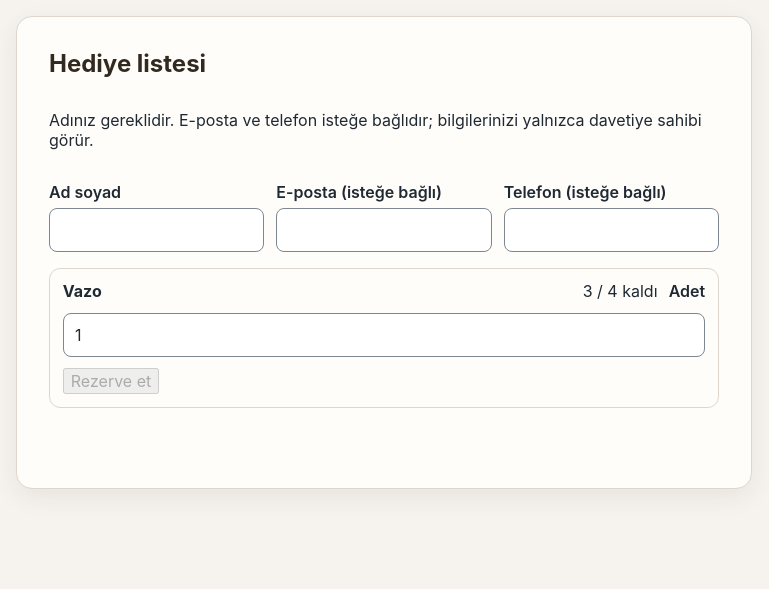
Test case: PublicGiftRegistrySection › checks template support, reserves a partial quantity and never renders guest contact data
Type "Misafir Örnek" into the field labelled "Ad soyad" at (157, 230), box [49, 208, 264, 252]
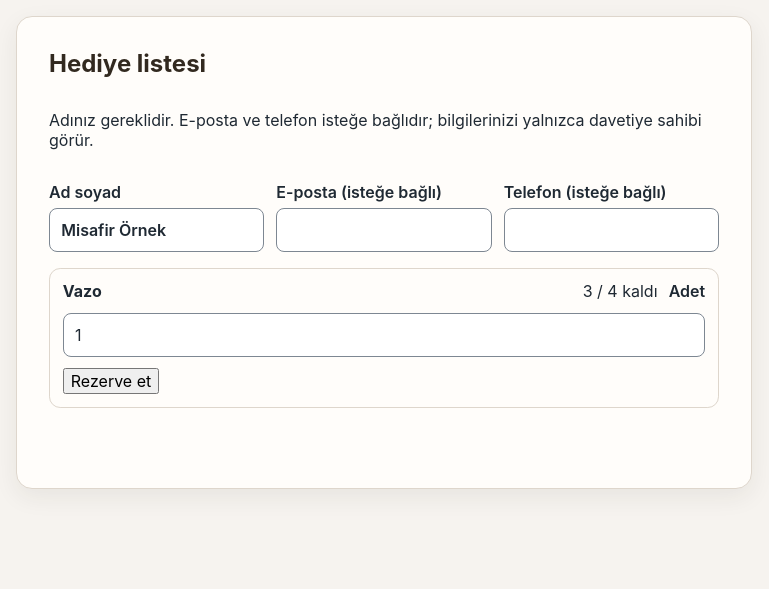
Replace the text in the number field labelled "Adet" with "2" at (384, 335), box [63, 313, 705, 357]
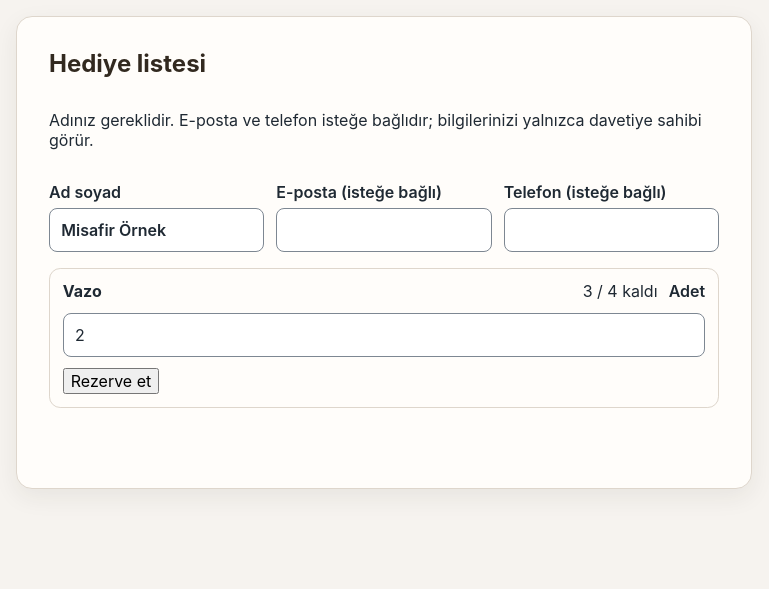
Click the button "Rezerve et" at (111, 381), box [63, 368, 159, 394]
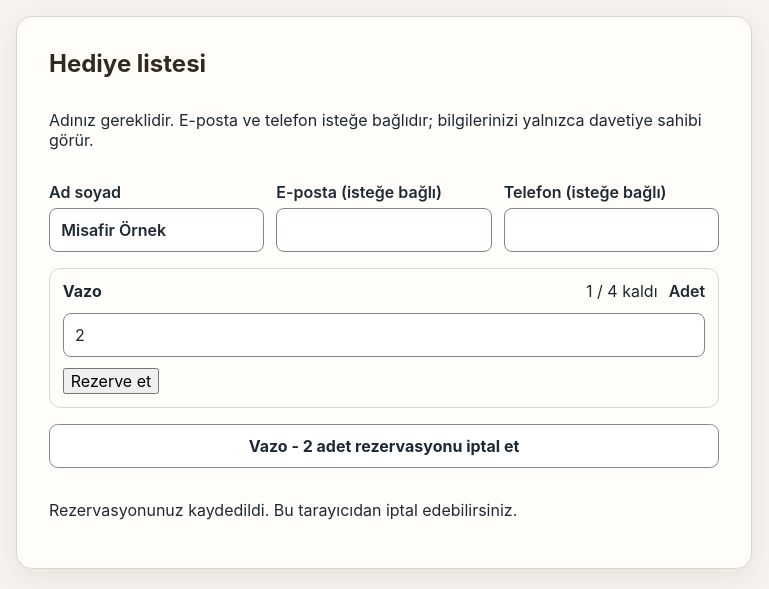
Expected: the field labelled "E-posta (isteğe bağlı)" is shown, [276, 208, 492, 252]
Result: the text "1 / 4 kaldı" is shown at [586, 281, 658, 301]
Click the button "Vazo - 2 adet rezervasyonu iptal et" at (384, 446), box [49, 424, 719, 468]
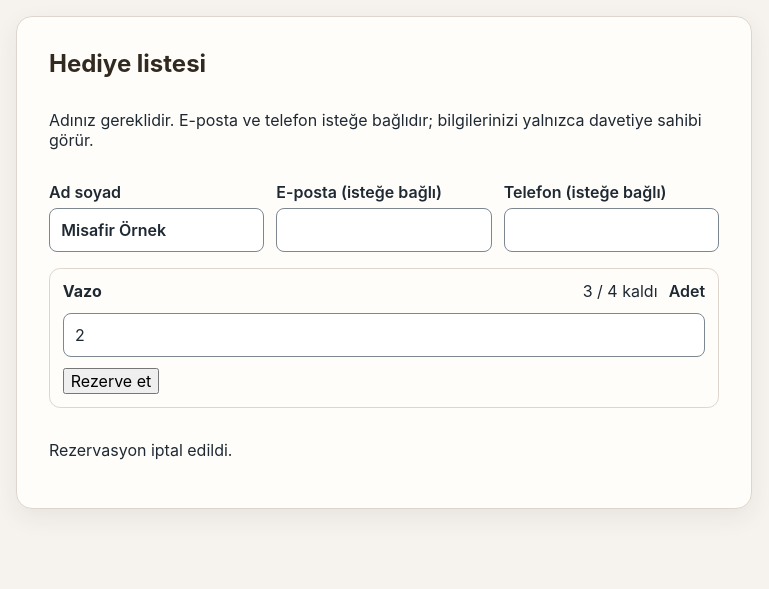
Result: the text "3 / 4 kaldı" is shown at [583, 281, 658, 301]
